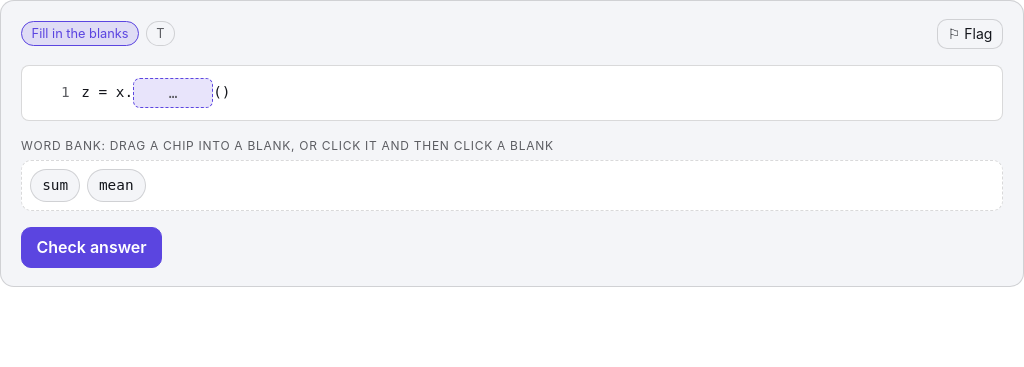
fill-blank › drag mode, code: chips go into a code listing
Click the button "mean". click: (116, 186)
box: [87,169,146,202]
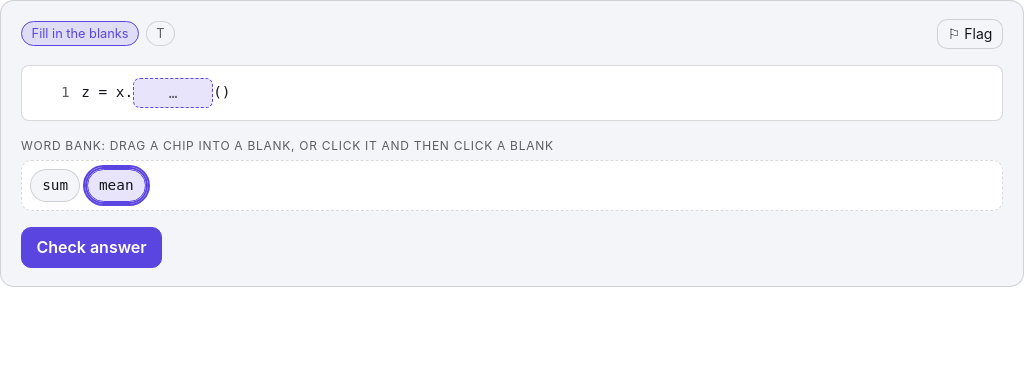
Click the element named "Blank m". click: (173, 93)
box: [133,78,213,108]
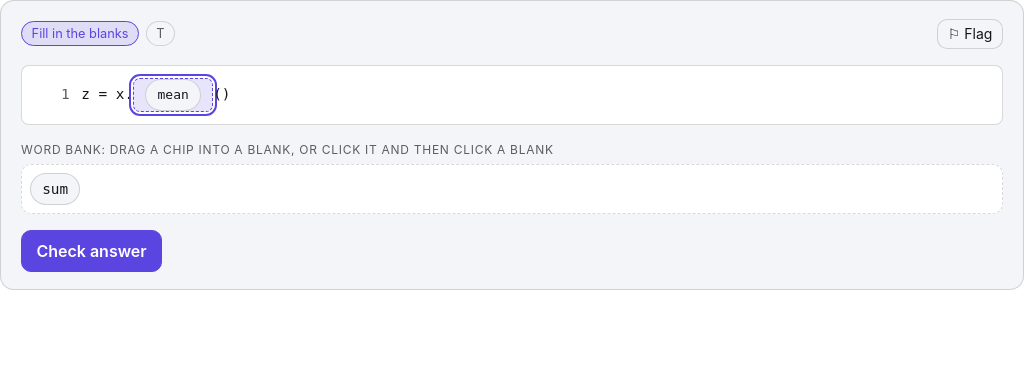
Click the button "Check answer". click: (92, 251)
box: [21,230,162,272]
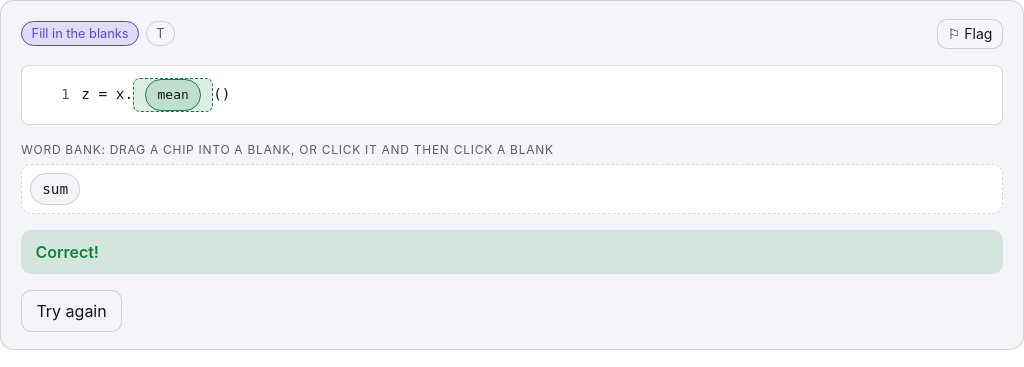
Expected: the message "Correct!" is shown, [21,230,1003,274]
